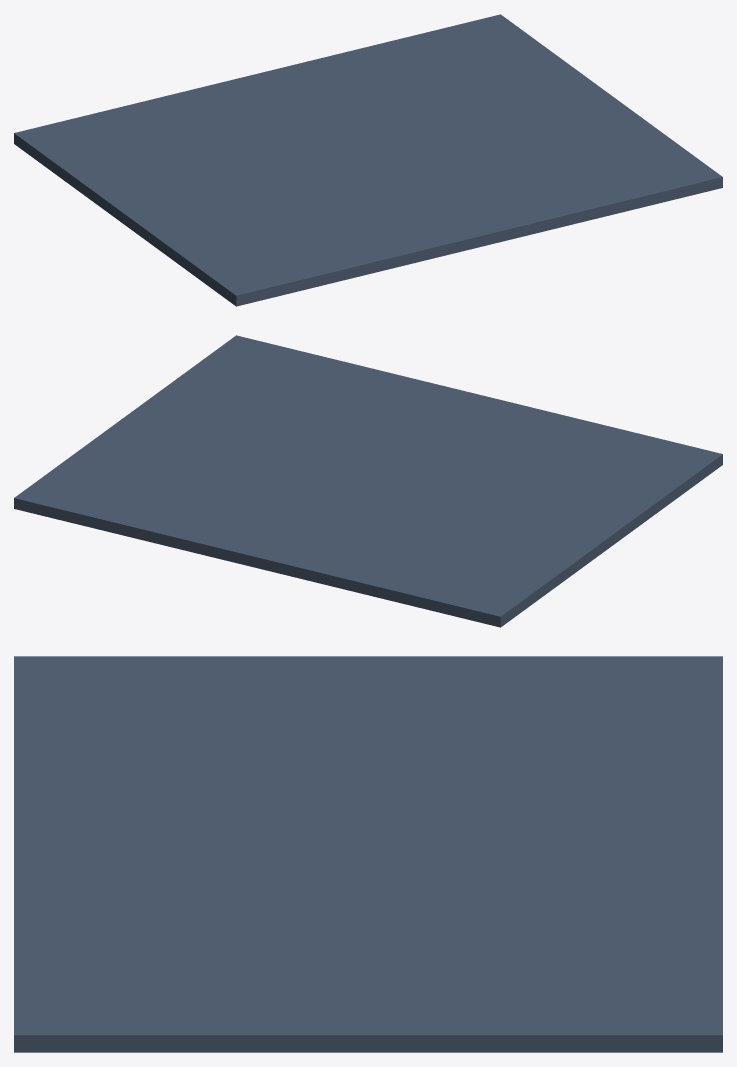
Rendered from floor_004_u_security_floor_05.obj.
3 renders of one model, top to bottom at view 1: azimuth 30°, elevation 25°; view 2: azimuth 150°, elevation 25°; view 3: azimuth 270°, elevation 25°, orthographic. The views are drawn at different scales.
Visible parts, largest first — view 1: Floor_004_u_security_floor_05; view 2: Floor_004_u_security_floor_05; view 3: Floor_004_u_security_floor_05.
Boxes of the visible parts, left/top/right/bottom form: Floor_004_u_security_floor_05: left=14, top=14, right=722, bottom=306; Floor_004_u_security_floor_05: left=14, top=335, right=722, bottom=627; Floor_004_u_security_floor_05: left=14, top=656, right=722, bottom=1052.
Size of the model in its own units: 9.41 by 0.2 by 7.44.
